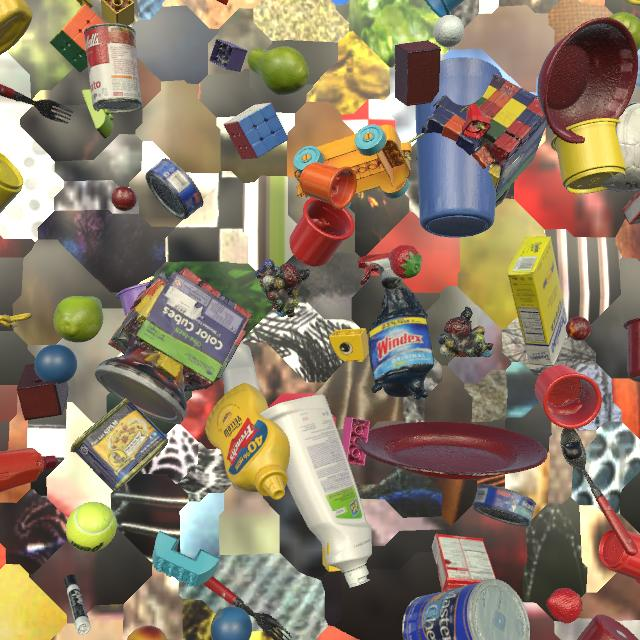ycb_002_master_chef_can: (402, 579, 530, 640)
ycb_004_sugar_box: (507, 236, 568, 366)
ycb_005_tomato_soup_can: (84, 23, 142, 113)
ycb_006_mustard_bottle: (205, 383, 290, 500), (0, 0, 32, 55)
ycb_007_tuna_fish_can: (145, 158, 203, 219), (473, 484, 536, 527)
ycb_009_gelatin_box: (431, 534, 496, 592), (622, 190, 640, 225)
ycb_010_potted_meat_can: (70, 398, 168, 492)
ycb_012_strawberry: (546, 588, 583, 624), (388, 245, 422, 279)
ycb_015_peach: (127, 626, 167, 640)
ycb_016_pear: (247, 46, 309, 96), (54, 296, 103, 343), (608, 12, 640, 52)
